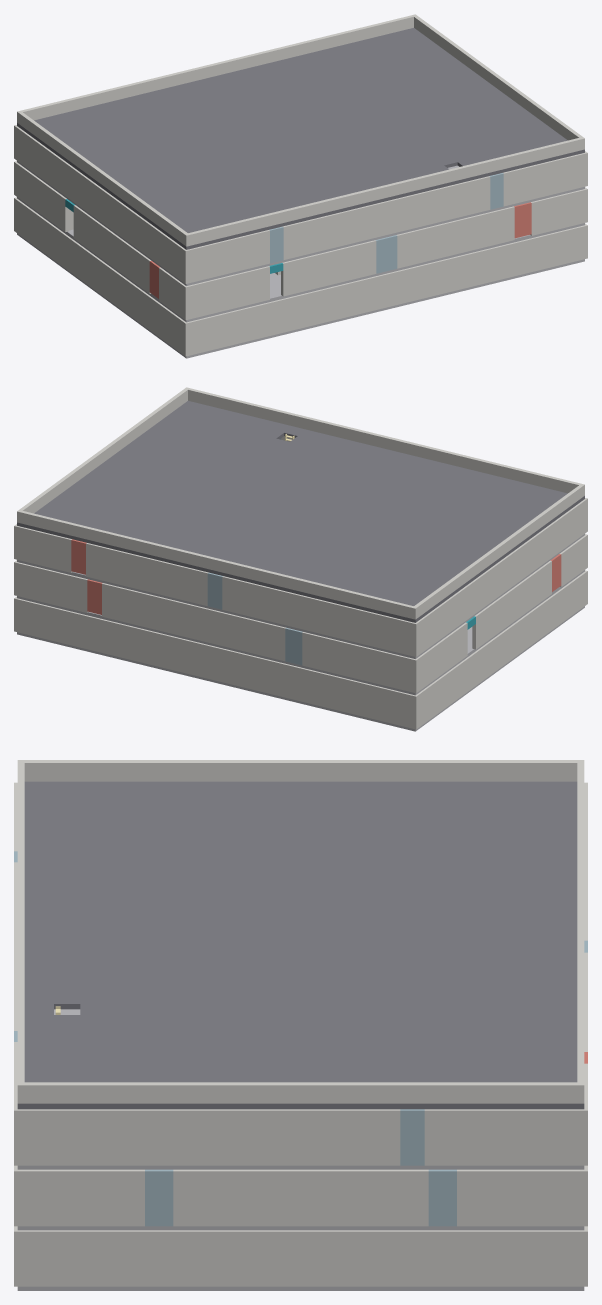
Rendered from deli_a01.glb.
The picture shows the model from 3 angles, top to bottom: view 1: azimuth 30°, elevation 25°; view 2: azimuth 150°, elevation 25°; view 3: azimuth 270°, elevation 25°; orthographic projection. The views are drawn at different scales.
Parts seen in each view (by area): view 1: slab_2_t1_2, slab_2_t1_6, slab_2_t2_5, slab_2_t3_2, slab_2_t4_1, slab_2_t4_5, slab_2_t1_5, slab_2_t2_1, slab_2_t3_4, slab_2_t3_6, slab_2_t4_2, slab_2_t1_1 (+136 smaller); view 2: slab_2_t1_1, slab_2_t1_5, slab_2_t2_2, slab_2_t3_5, slab_2_t4_2, slab_2_t4_6, slab_2_t1_2, slab_2_t2_4, slab_2_t2_6, slab_2_t3_1, slab_2_t4_5, slab_2_t1_3 (+137 smaller); view 3: slab_2_t1_2, slab_2_t1_5, slab_2_t4_2, slab_2_t4_5, slab_2_t2_2, slab_2_t2_5, slab_2_t3_2, slab_2_t3_5, slab_2_t1_1, slab_2_t1_3, slab_2_t1_4, slab_2_t1_6 (+91 smaller).
Part boxes in pixels (left/top/right/bottom): slab_2_t1_2: left=230, top=169, right=307, bottom=201; slab_2_t1_6: left=429, top=120, right=506, bottom=152; slab_2_t2_5: left=351, top=111, right=428, bottom=144; slab_2_t3_2: left=173, top=127, right=250, bottom=160; slab_2_t4_1: left=95, top=119, right=172, bottom=151; slab_2_t4_5: left=294, top=70, right=371, bottom=102; slab_2_t1_5: left=379, top=132, right=456, bottom=164; slab_2_t2_1: left=152, top=160, right=228, bottom=192; slab_2_t3_4: left=273, top=103, right=350, bottom=135; slab_2_t3_6: left=373, top=79, right=449, bottom=111; slab_2_t4_2: left=145, top=107, right=222, bottom=139; slab_2_t1_1: left=180, top=181, right=257, bottom=213; slab_2_t1_1: left=429, top=492, right=506, bottom=524; slab_2_t1_5: left=230, top=443, right=307, bottom=475; slab_2_t2_2: left=351, top=500, right=428, bottom=533; slab_2_t3_5: left=173, top=484, right=250, bottom=517; slab_2_t4_2: left=294, top=542, right=371, bottom=574; slab_2_t4_6: left=95, top=493, right=172, bottom=525; slab_2_t1_2: left=379, top=480, right=456, bottom=512; slab_2_t2_4: left=251, top=476, right=328, bottom=508; slab_2_t2_6: left=152, top=452, right=228, bottom=484; slab_2_t3_1: left=373, top=533, right=449, bottom=565; slab_2_t4_5: left=145, top=505, right=222, bottom=537; slab_2_t1_3: left=329, top=467, right=406, bottom=500; slab_2_t1_2: left=112, top=859, right=206, bottom=900; slab_2_t1_5: left=112, top=981, right=206, bottom=1022; slab_2_t4_2: left=395, top=859, right=489, bottom=900; slab_2_t4_5: left=395, top=981, right=489, bottom=1022; slab_2_t2_2: left=206, top=859, right=300, bottom=900; slab_2_t2_5: left=206, top=981, right=300, bottom=1022; slab_2_t3_2: left=301, top=859, right=395, bottom=900; slab_2_t3_5: left=301, top=981, right=395, bottom=1022; slab_2_t1_1: left=112, top=819, right=206, bottom=859; slab_2_t1_3: left=112, top=900, right=206, bottom=940; slab_2_t1_4: left=112, top=941, right=206, bottom=981; slab_2_t1_6: left=112, top=1022, right=206, bottom=1062.
Size of what is drawn, in the model's own units: 38.35 by 11.2 by 28.35.
